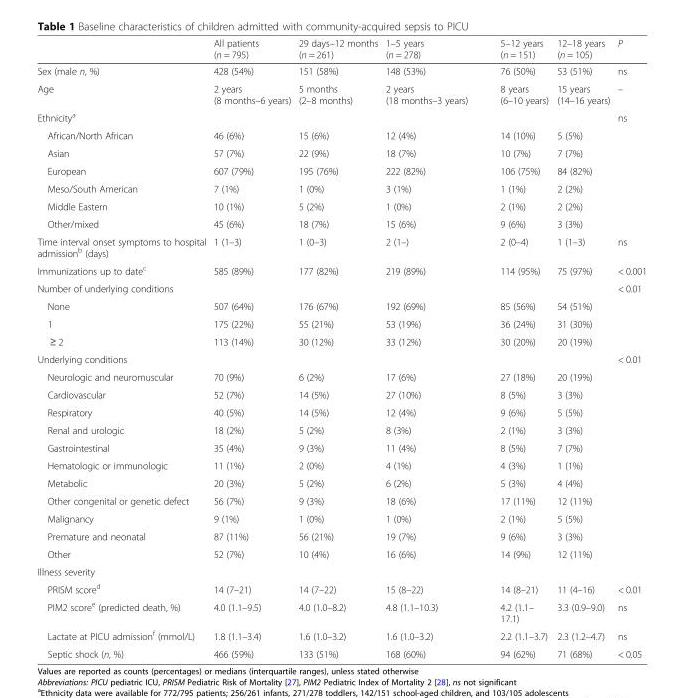table: (36, 37, 646, 659)
table column: (36, 37, 209, 659), (381, 37, 483, 659), (294, 37, 381, 659), (209, 37, 294, 659), (483, 37, 552, 659), (552, 37, 613, 659), (613, 37, 646, 659)
table column header: (36, 37, 646, 62)
table projected row header: (36, 562, 646, 579)
table row: (36, 597, 646, 626), (36, 79, 646, 107), (36, 232, 646, 260), (36, 37, 646, 62), (36, 107, 646, 126), (36, 260, 646, 279), (36, 126, 646, 144), (36, 161, 646, 179), (36, 179, 646, 197), (36, 214, 646, 232), (36, 279, 646, 297), (36, 314, 646, 332), (36, 332, 646, 350), (36, 367, 646, 385), (36, 385, 646, 403), (36, 420, 646, 438), (36, 438, 646, 456), (36, 456, 646, 474), (36, 491, 646, 509), (36, 509, 646, 527), (36, 544, 646, 562), (36, 579, 646, 597), (36, 626, 646, 644), (36, 62, 646, 79), (36, 144, 646, 161), (36, 197, 646, 214), (36, 297, 646, 314), (36, 350, 646, 367), (36, 403, 646, 420), (36, 474, 646, 491), (36, 527, 646, 544), (36, 562, 646, 579), (36, 644, 646, 659)
